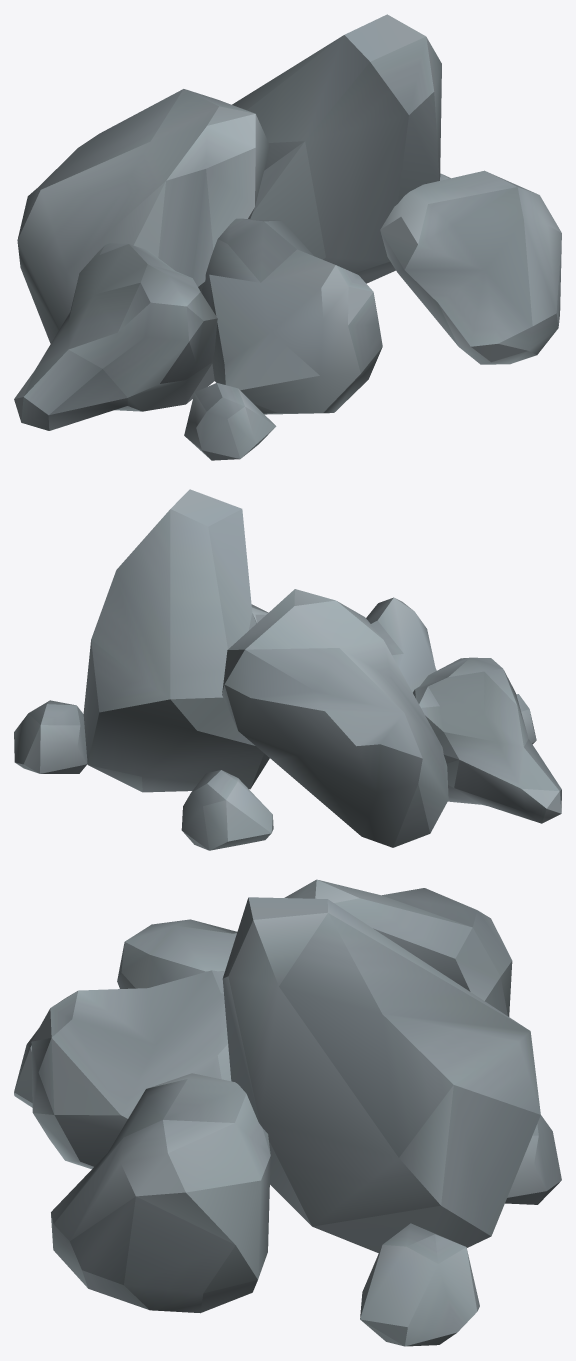
The model's file is Stone_Chunks_Small.glb.
3 renders of one model, top to bottom at view 1: azimuth 30°, elevation 25°; view 2: azimuth 150°, elevation 25°; view 3: azimuth 270°, elevation 25°, orthographic. The views are drawn at different scales.
Parts seen in each view (by area): view 1: Stone_Chunks_Small; view 2: Stone_Chunks_Small; view 3: Stone_Chunks_Small.
Part boxes in pixels (<box>): Stone_Chunks_Small: <box>14,14,561,460</box>; Stone_Chunks_Small: <box>14,489,561,850</box>; Stone_Chunks_Small: <box>14,879,561,1346</box>.
Size of the model in its own units: 1.12 by 0.5792 by 0.7861.
1 material, 1 textured.
